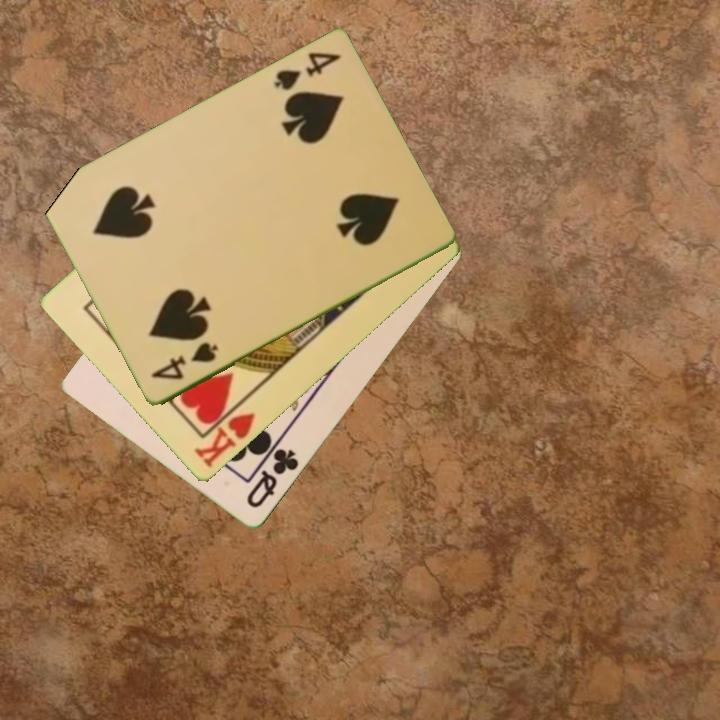4s: (270, 49, 344, 95), (147, 339, 221, 384)
Kh: (191, 396, 258, 471)
Qc: (242, 445, 302, 512)
